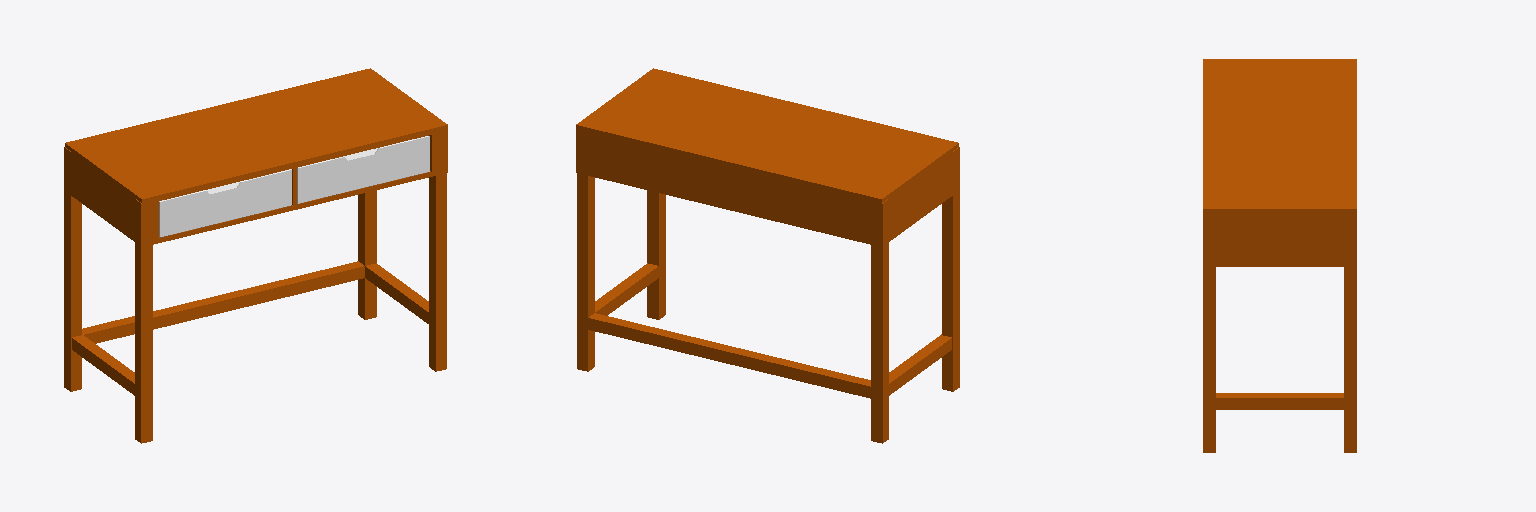
File: desk1_orange.obj
3 renders of one model, left to right at view 1: azimuth 30°, elevation 25°; view 2: azimuth 150°, elevation 25°; view 3: azimuth 270°, elevation 25°, orthographic.
Visible parts, largest first — view 1: Box6938, ChamferBox856, ChamferBox857, Box6945, Box6940, Box6942, Box6939, Box6941, Box6943, Box6944; view 2: Box6938, Box6945, Box6939, Box6941, Box6940, Box6942, Box6944, Box6943; view 3: Box6938, Box6942, Box6941, Box6943, Box6944.
Boxes of the visible parts, x1=… form: Box6938: x1=65, y1=68, x2=447, y2=244; ChamferBox856: x1=159, y1=169, x2=291, y2=237; ChamferBox857: x1=297, y1=136, x2=429, y2=203; Box6945: x1=82, y1=261, x2=364, y2=343; Box6940: x1=135, y1=199, x2=152, y2=443; Box6942: x1=429, y1=129, x2=446, y2=371; Box6939: x1=64, y1=147, x2=81, y2=391; Box6941: x1=358, y1=190, x2=376, y2=319; Box6943: x1=365, y1=263, x2=431, y2=326; Box6944: x1=72, y1=335, x2=134, y2=395; Box6938: x1=576, y1=68, x2=958, y2=246; Box6945: x1=588, y1=313, x2=875, y2=398; Box6939: x1=871, y1=199, x2=888, y2=443; Box6941: x1=577, y1=130, x2=594, y2=371; Box6940: x1=942, y1=147, x2=959, y2=391; Box6942: x1=647, y1=190, x2=665, y2=319; Box6944: x1=889, y1=334, x2=951, y2=395; Box6943: x1=595, y1=263, x2=661, y2=315; Box6938: x1=1203, y1=59, x2=1356, y2=256; Box6942: x1=1203, y1=257, x2=1215, y2=452; Box6941: x1=1344, y1=257, x2=1356, y2=452; Box6943: x1=1210, y1=393, x2=1350, y2=409; Box6944: x1=1216, y1=257, x2=1343, y2=266.
Bounding box in the file's own units: 80.21 × 61.01 × 35.01.